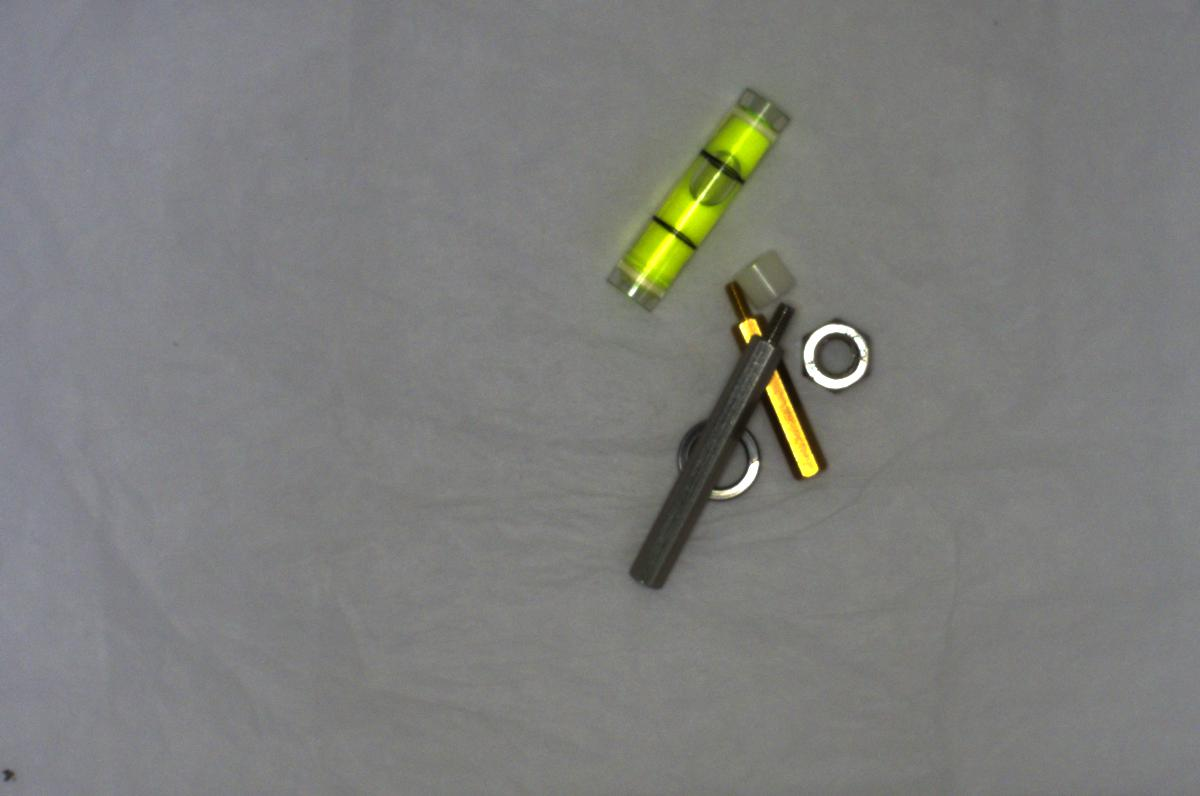Hexagon nut: (788, 312, 878, 399)
Hexagon pillar: (724, 273, 828, 490)
Hexagonal steel column: (608, 303, 802, 592)
Horizontal bubble: (585, 86, 794, 310)
Plastic cushion pillar: (730, 239, 801, 313)
Spring washer: (667, 412, 767, 504)
